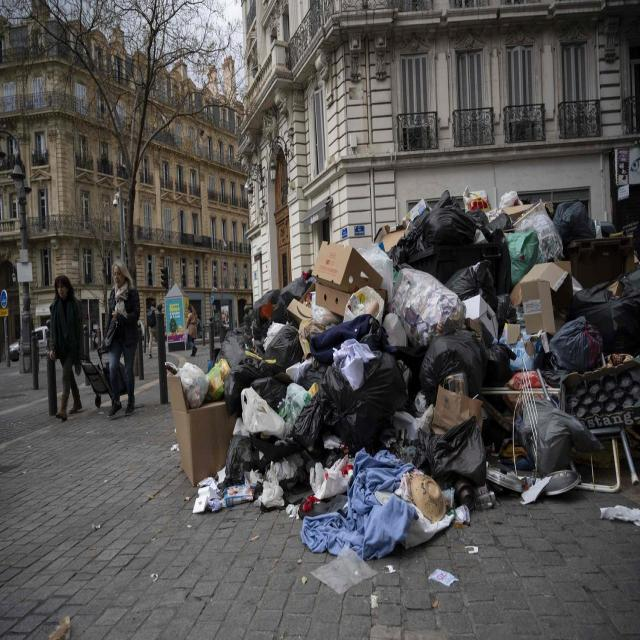garbage: (166, 117, 624, 633)
